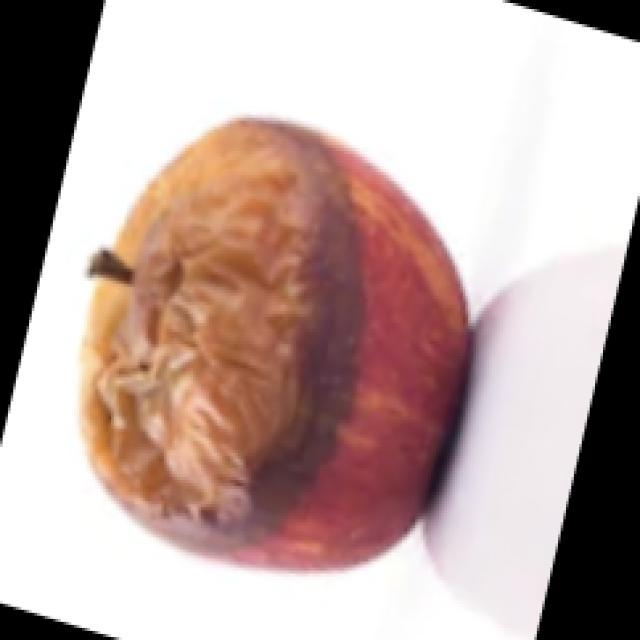Rotten: (102, 115, 473, 562)
